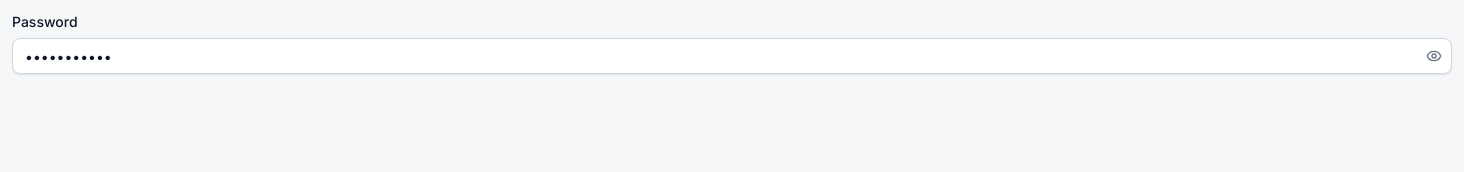
Test case: PasswordInput › reveals and re-hides the password with the eye button, keeping the typed value
What coordinates should you click on to do the following:
click the button named "Show password"
I would click on:
 (1434, 56)
Its box is [1420,42,1448,70].
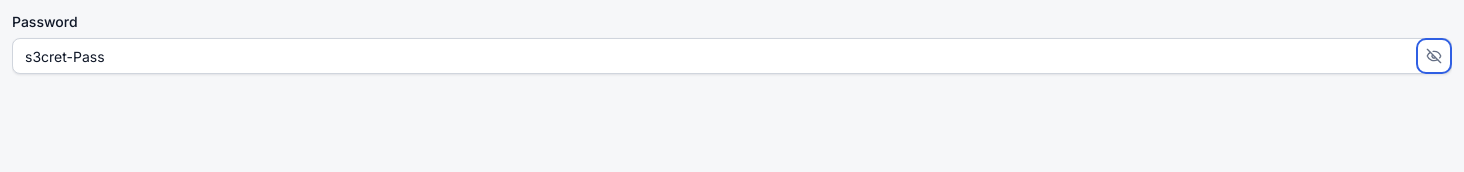
Expected: the field labelled "Password" holds "s3cret-Pass", [12,38,1452,74]
Expected: the field labelled "Password" shows its text, [12,38,1452,74]
What coordinates should you click on to do the following:
click the button named "Hide password"
I would click on:
 (1434, 56)
Its box is [1420,42,1448,70].
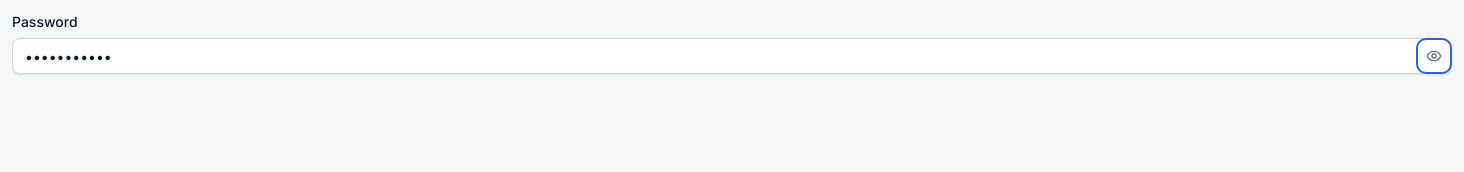
Expected: the password field labelled "Password" holds "s3cret-Pass", [12,38,1452,74]
Expected: the password field labelled "Password" hides its text, [12,38,1452,74]
